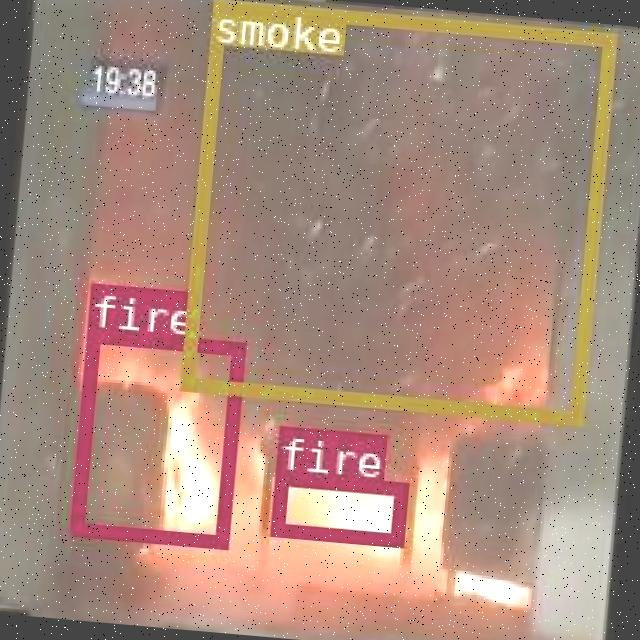fire: (68, 326, 242, 544), (269, 470, 406, 544)
smoke: (178, 0, 613, 421)
